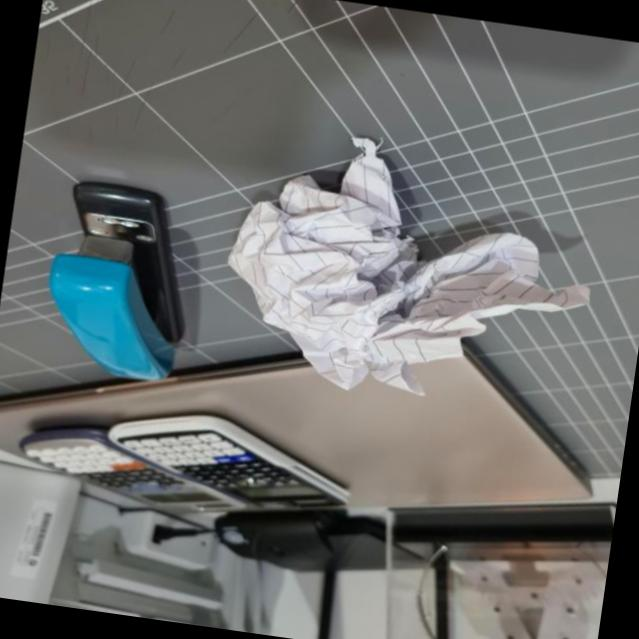cardboard paper: (227, 138, 587, 393)
